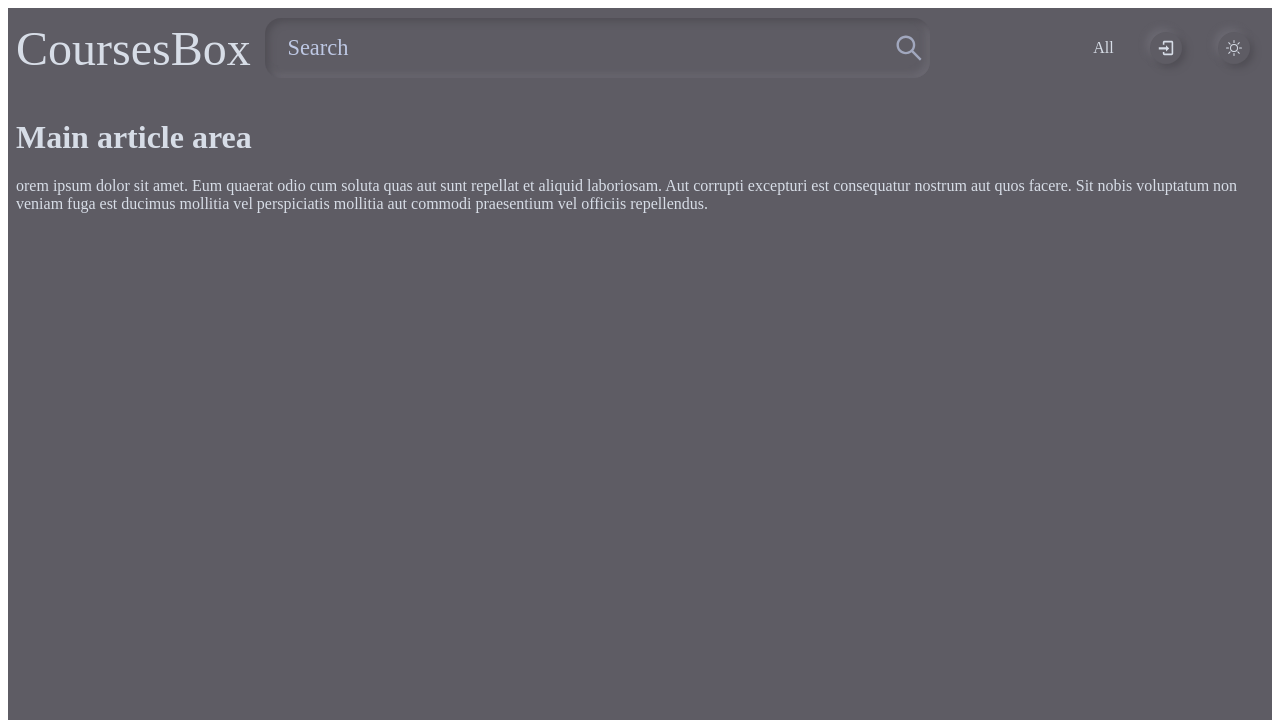
Scenario: Layout tests › should toggle theme
Step 1. Click the button named "Sun" → click(1234, 48), box [1218,32,1250,64]
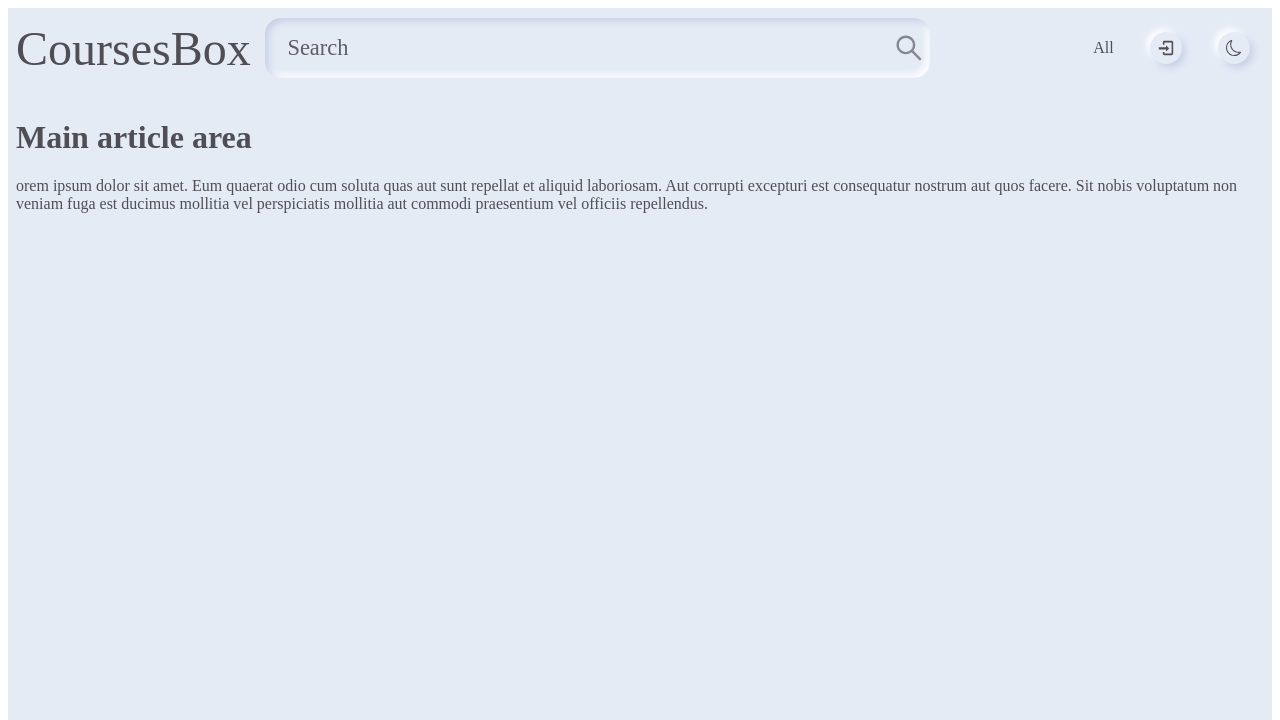
expect the button named "Moon" is shown: met, box [1218,32,1250,64]
